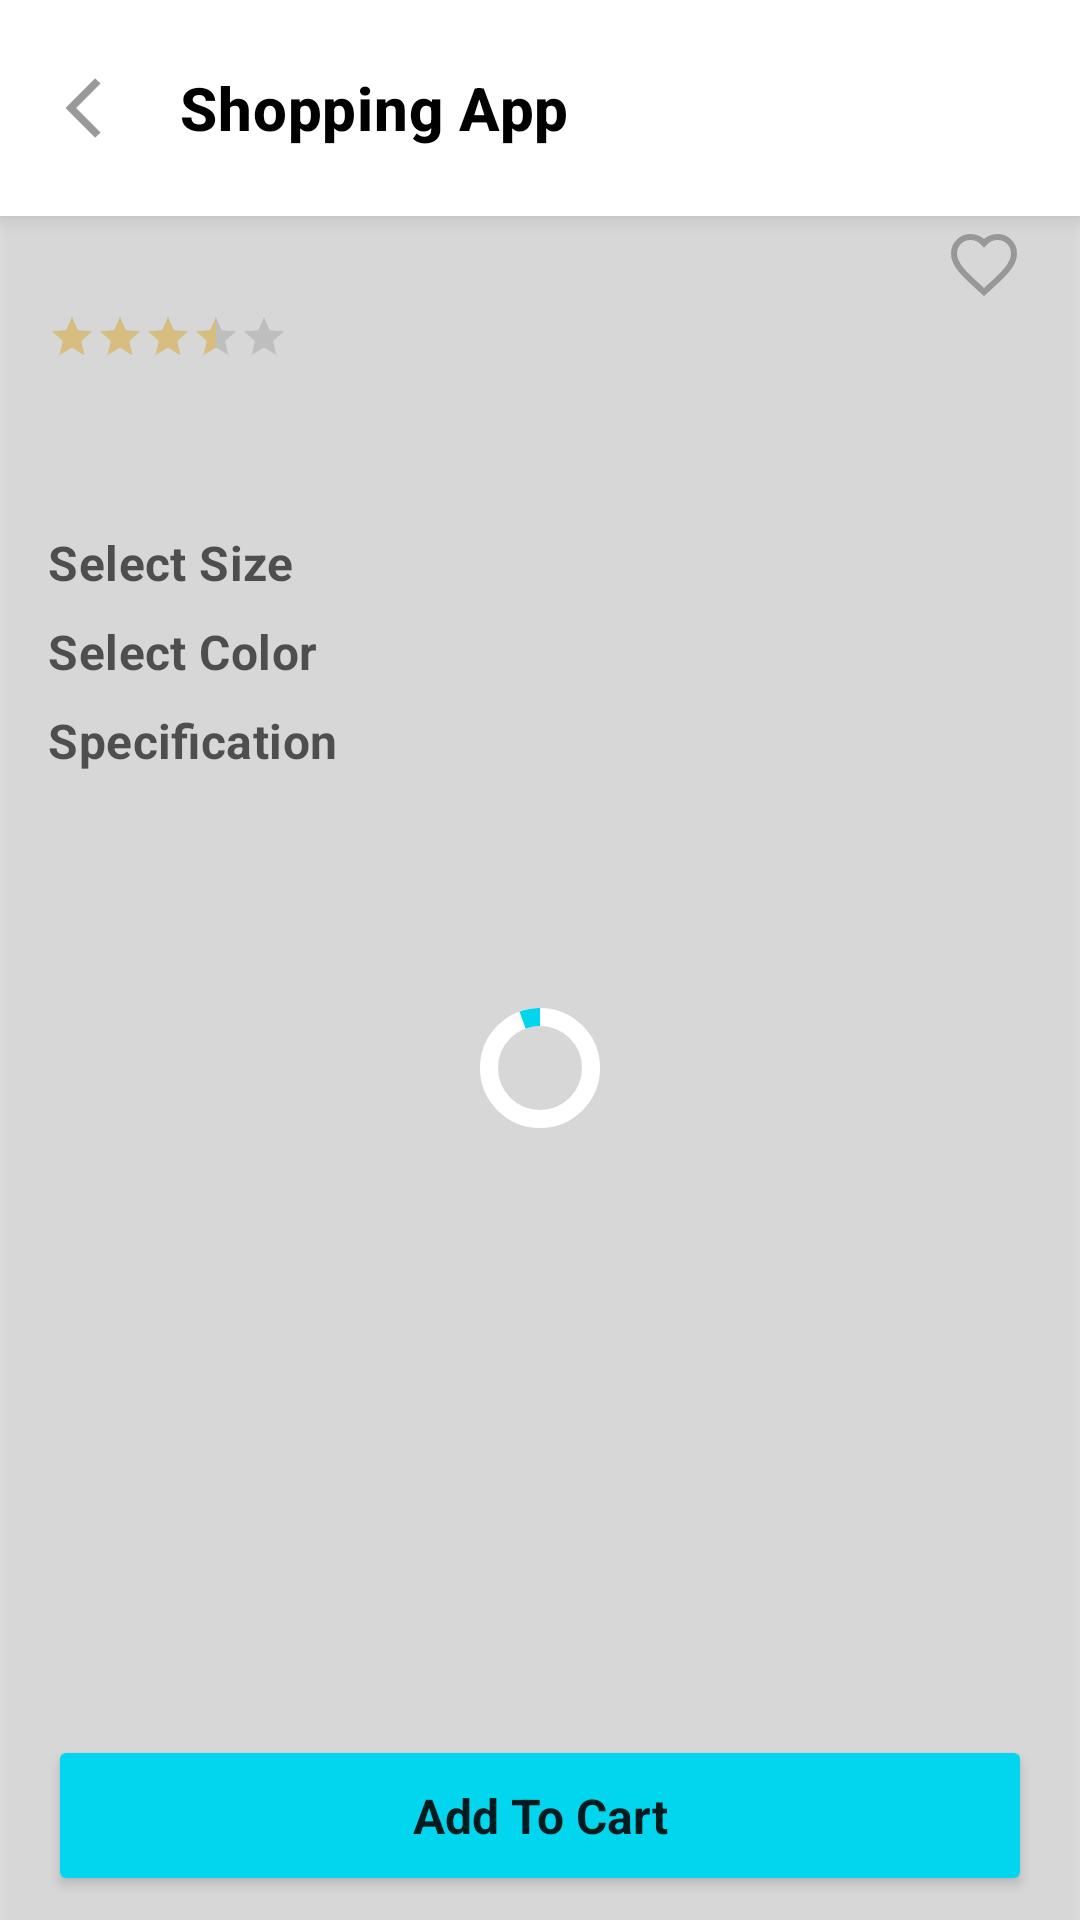

Screen size 1080px×1920px. Icon name, then its box in pixels as (x1, y1, x2, y2):
Like Button: (951, 234, 1017, 296)
